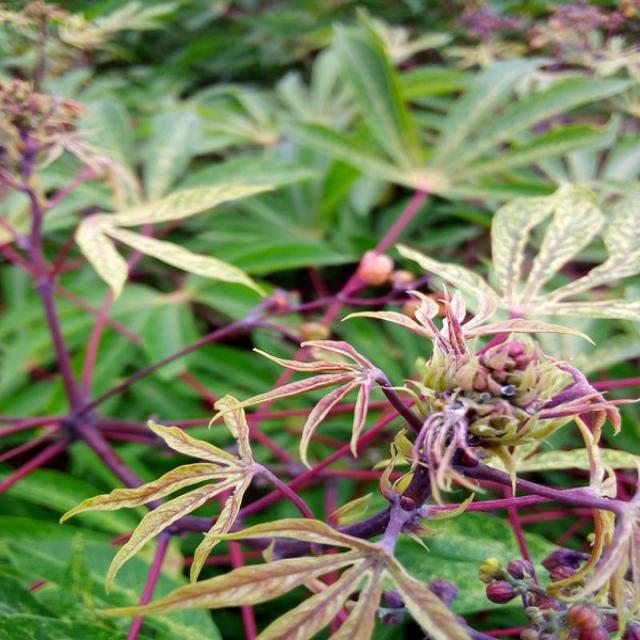cassava leaf: (2, 4, 638, 638)
